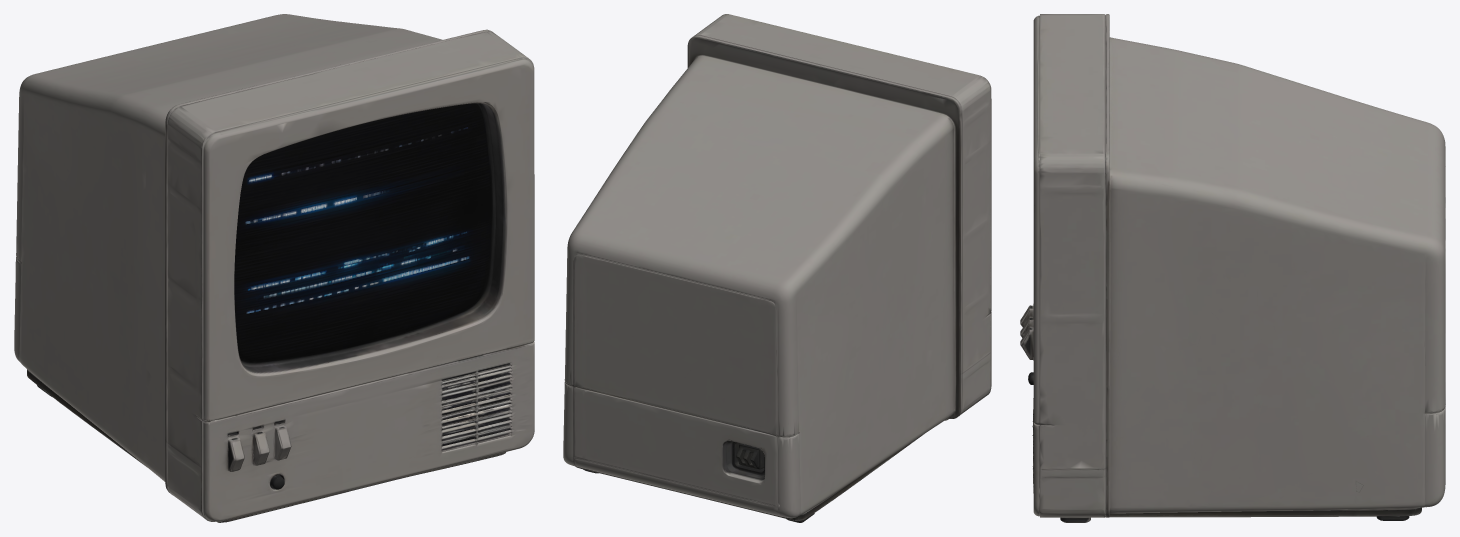
The model's file is crt-tv.glb.
3 views of the same model, side by side, from view 1: azimuth 30°, elevation 25°; view 2: azimuth 150°, elevation 25°; view 3: azimuth 270°, elevation 25° (orthographic). The views are drawn at different scales.
Parts seen in each view (by area): view 1: node_0; view 2: node_0; view 3: node_0.
Boxes of the visible parts, x1,y1,x2,y2 form: node_0: (14, 14, 534, 522); node_0: (563, 14, 991, 522); node_0: (1020, 14, 1445, 522).
Size of the model in its own units: 0.649 by 0.7564 by 0.774.
1 material, 1 textured.
